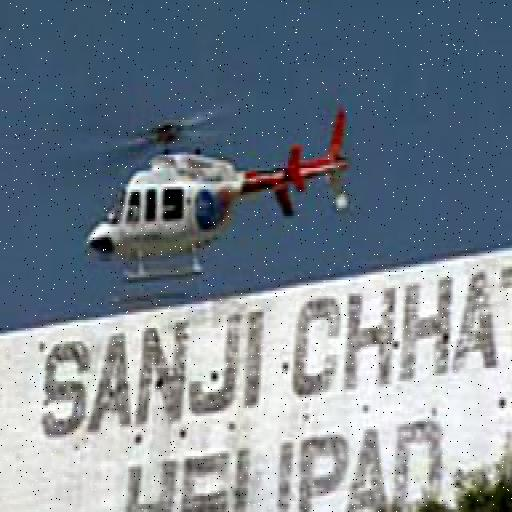helicopter: (62, 92, 372, 316)
